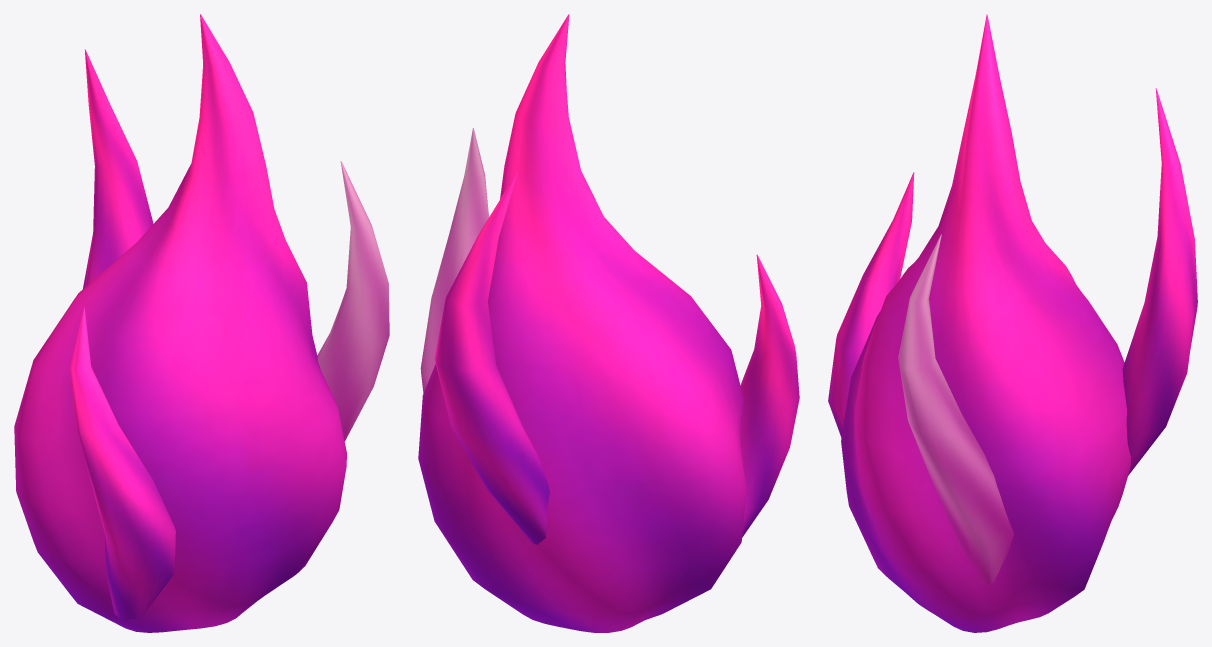
The model's file is nyanisyarud-oni-guide-hard.glb.
The picture shows the model from 3 angles, left to right: view 1: azimuth 30°, elevation 25°; view 2: azimuth 150°, elevation 25°; view 3: azimuth 270°, elevation 25°; orthographic projection.
Parts seen in each view (by area): view 1: onibi_guide_hard_red_purple; view 2: onibi_guide_hard_red_purple; view 3: onibi_guide_hard_red_purple.
Part boxes in pixels (x1,y1,x2,y2): onibi_guide_hard_red_purple: [14, 14, 389, 632]; onibi_guide_hard_red_purple: [418, 14, 799, 632]; onibi_guide_hard_red_purple: [828, 14, 1197, 632].
Bounding box in the file's own units: 0.9849 × 1.72 × 0.9339.
3 materials, 3 textured.
